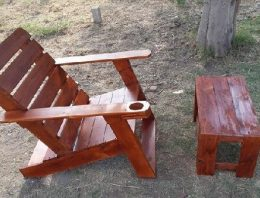chairs: (1, 28, 165, 181), (193, 73, 260, 180)
